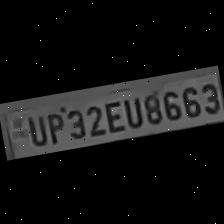2: (82, 100, 106, 137)
3: (61, 103, 86, 140), (196, 77, 220, 115)
6: (176, 82, 202, 119), (158, 86, 182, 122)
8: (138, 87, 162, 125)
E: (99, 95, 124, 133)
P: (42, 106, 66, 144)
U: (120, 92, 144, 129), (22, 110, 46, 146)
